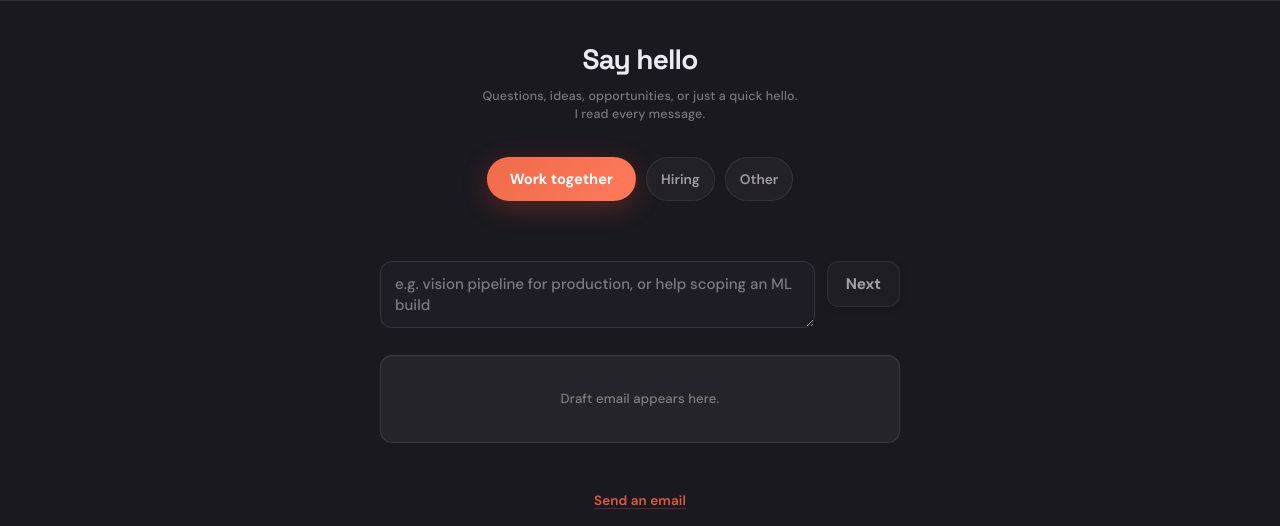
Test case: Contact › shows loading state while preview request is in flight
The width and height of the screenshot is (1280, 526).
Type "I am exploring collaboration around CV systems." into the text box titled "your message" at (597, 295), box [380,261,815,328]
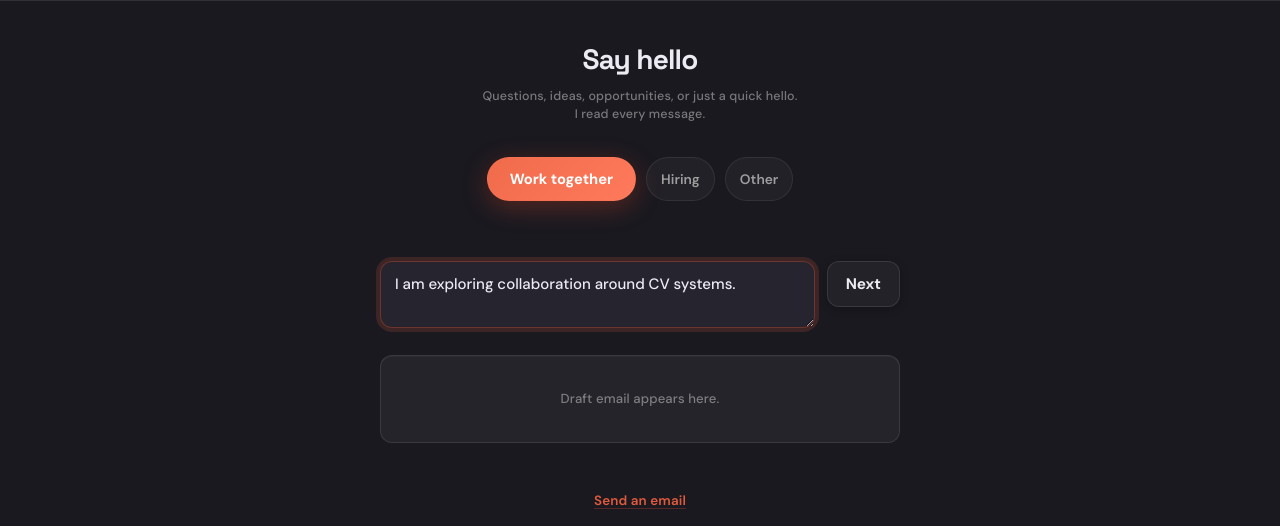
Click the button "Next" at (863, 284), box [827,261,900,307]
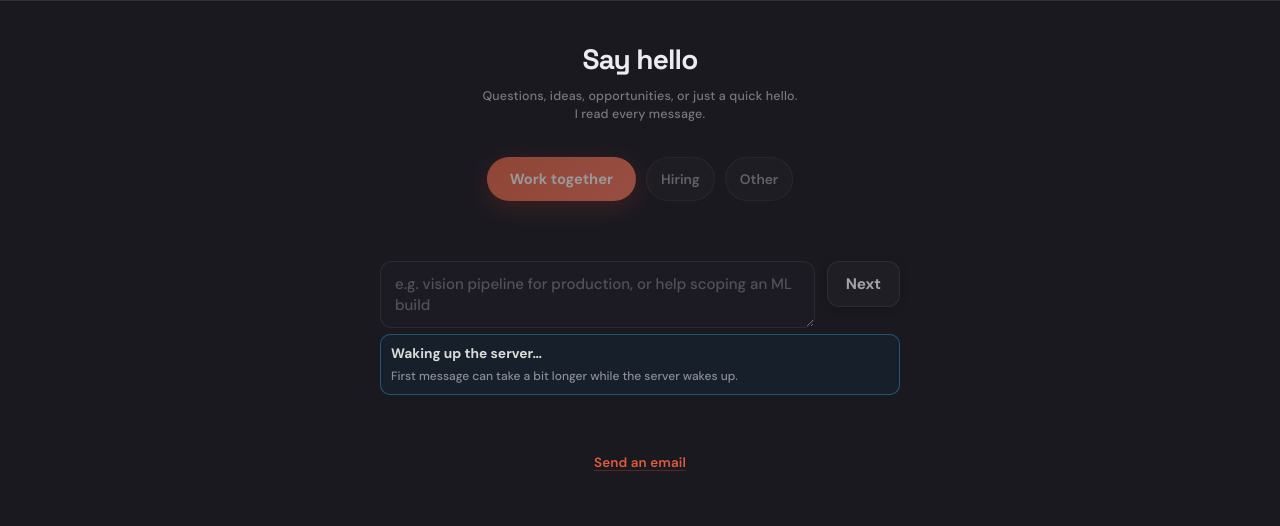
Now the text "Waking up the server…" is shown, box [391,344,542,362]
Now the text "First message can take a bit longer" is shown, box [391,368,738,384]
